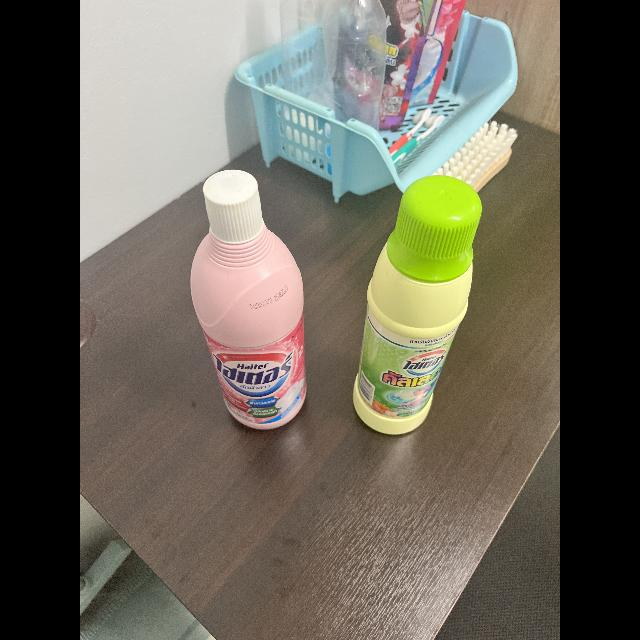chemical_plastic_bottle: (346, 170, 484, 438), (187, 164, 313, 432)
